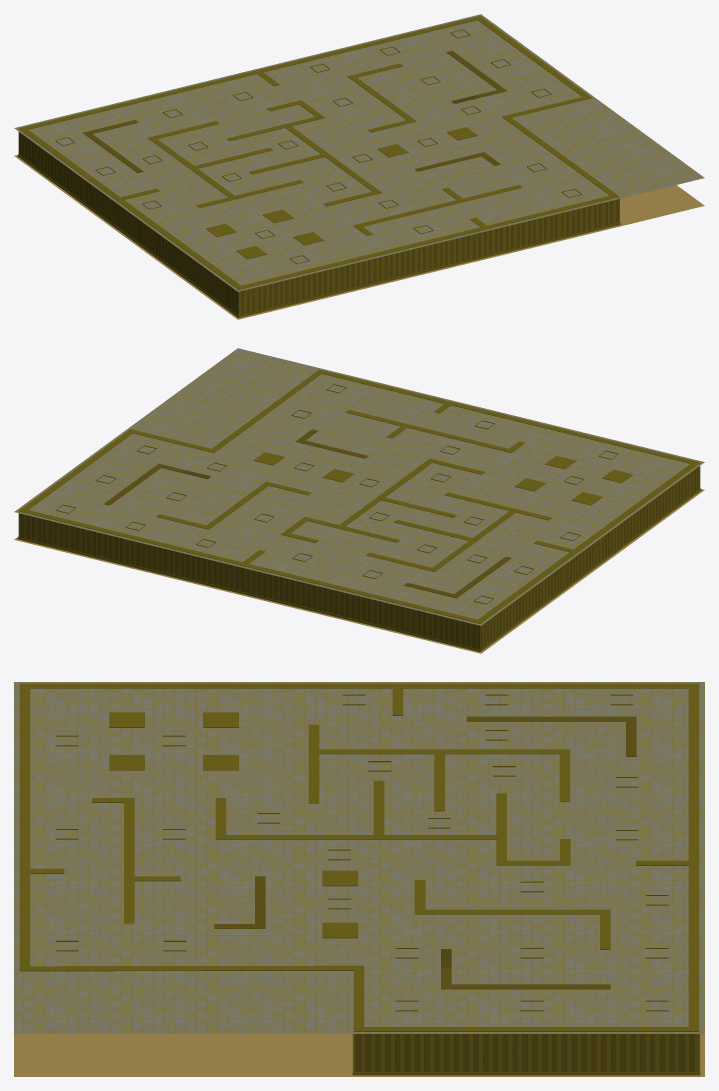
The model's file is backrooms_map.fbx.
The picture shows the model from 3 angles, top to bottom: view 1: azimuth 30°, elevation 25°; view 2: azimuth 150°, elevation 25°; view 3: azimuth 270°, elevation 25°; orthographic projection. The views are drawn at different scales.
Visible parts, largest first — view 1: Plane.060, Cube.3403, Plane.059; view 2: Plane.060, Cube.3403, Plane.059; view 3: Plane.060, Cube.3403, Plane.059.
Part boxes in pixels (box(x1,y1,x2,y2)): Plane.060: box(14, 14, 704, 291); Cube.3403: box(17, 16, 620, 317); Plane.059: box(14, 155, 704, 319); Plane.060: box(14, 348, 704, 625); Cube.3403: box(17, 369, 701, 651); Plane.059: box(14, 489, 704, 653); Plane.060: box(14, 682, 704, 1033); Cube.3403: box(19, 683, 700, 1075); Plane.059: box(14, 1034, 704, 1076).
Bounding box in the file's own units: 13322 × 780 × 11059.
